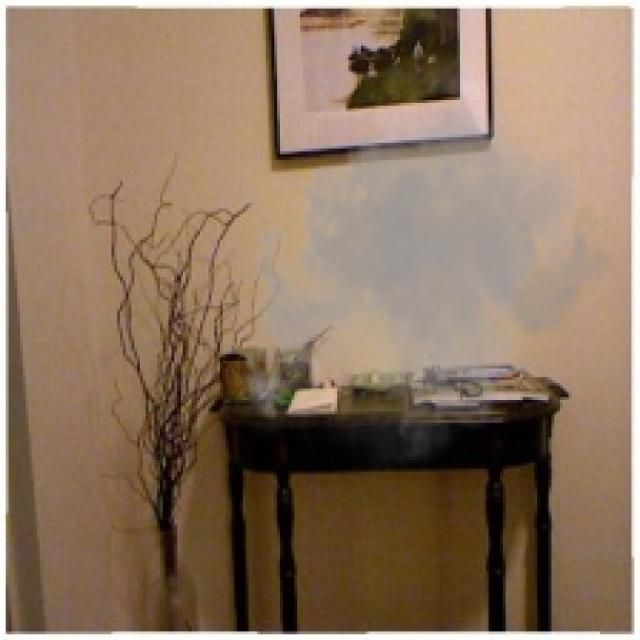Smoke: (232, 80, 614, 486)
